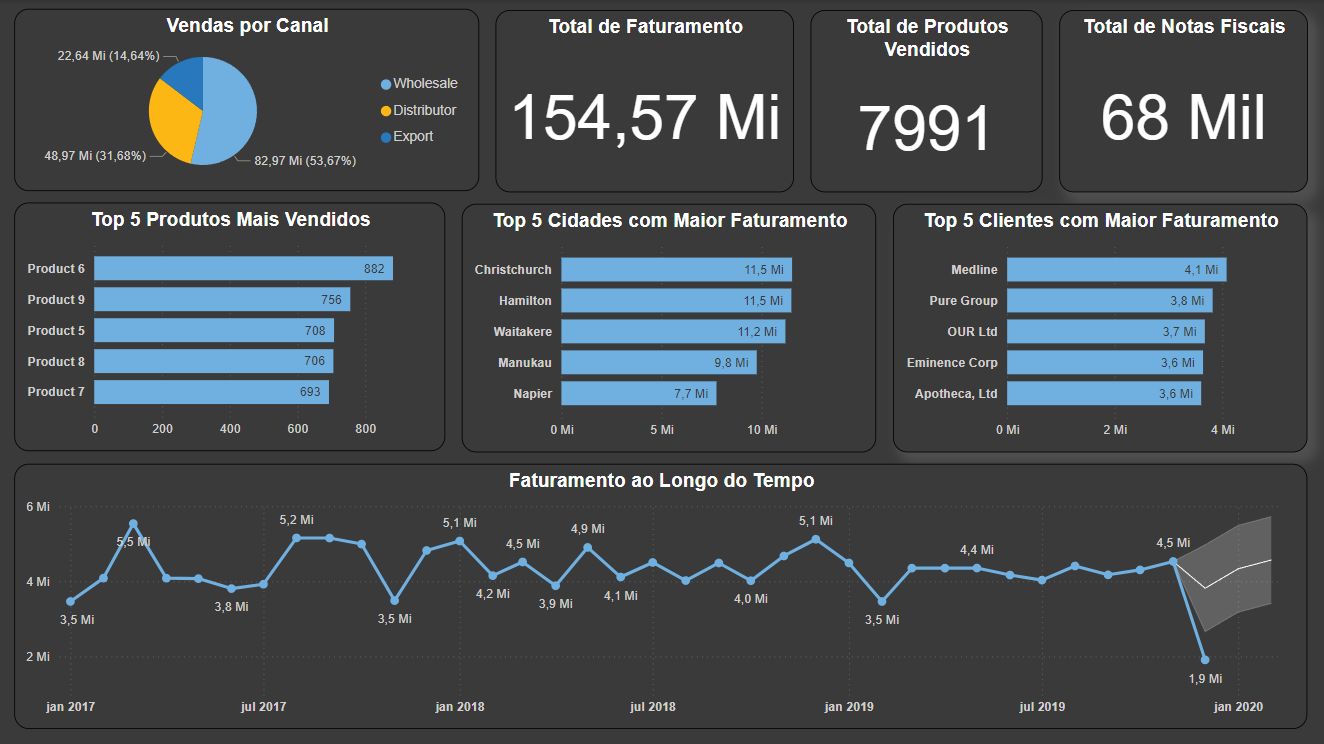

Layout of this report page (visuals, bound fields, positions):
{"tool":"powerbi","page":{"name":"Página 1","canvas":[1280,720],"ordinal":0},"visuals":[{"type":"card","title":"Total de Faturamento","fields":{"Values":["Sum(Sales Orders.Total Revenue)"]},"box":[480,0,288,176],"z":0},{"type":"pieChart","title":"Vendas por Canal","fields":{"Y":["Sum(Sales Orders.Total Revenue)"],"Category":["Sales Orders.Channel"]},"box":[16,0,448,176],"z":1},{"type":"card","title":"Total de Produtos Vendidos","fields":{"Values":["CountNonNull(Sales Orders.OrderNumber)"]},"box":[784,0,224,176],"z":2},{"type":"card","title":"Total de Notas Fiscais","fields":{"Values":["Sum(Sales Orders.Order Quantity)"]},"box":[1024,0,240,176],"z":3},{"type":"clusteredBarChart","title":"Top 5 Produtos Mais Vendidos","fields":{"Category":["Products.Product Name"],"Y":["Sum(Sales Orders.Order Quantity)"]},"box":[16,192,416,240],"z":4},{"type":"clusteredBarChart","title":"Top 5 Cidades com Maior Faturamento","fields":{"Category":["Regions.City"],"Y":["Sum(Sales Orders.Total Revenue)"]},"box":[448,192,400,240],"z":5},{"type":"clusteredBarChart","title":"Top 5 Clientes com Maior Faturamento","fields":{"Category":["Customers.Customer Names"],"Y":["Sum(Sales Orders.Total Revenue)"]},"box":[864,192,400,240],"z":6},{"type":"lineChart","title":"Faturamento ao Longo do Tempo","fields":{"Y":["Sum(Sales Orders.Total Revenue)"],"Category":["Sales Orders.OrderDate.Variation.Hierarquia de datas.Ano","Sales Orders.OrderDate.Variation.Hierarquia de datas.Trimestre","Sales Orders.OrderDate.Variation.Hierarquia de datas.Mês","Sales Orders.OrderDate.Variation.Hierarquia de datas.Dia"]},"box":[16,448,1248,256],"z":7}]}

Visuals, with their boxes in screenshot pixels (x1, y1, x2, y2), scaled from the page's 1280x720 canvas onto the 1324x744 screenshot:
"Total de Faturamento" card: region(496, 0, 794, 182)
"Vendas por Canal" pieChart: region(17, 0, 480, 182)
"Total de Produtos Vendidos" card: region(811, 0, 1043, 182)
"Total de Notas Fiscais" card: region(1059, 0, 1307, 182)
"Top 5 Produtos Mais Vendidos" clusteredBarChart: region(17, 198, 447, 446)
"Top 5 Cidades com Maior Faturamento" clusteredBarChart: region(463, 198, 877, 446)
"Top 5 Clientes com Maior Faturamento" clusteredBarChart: region(894, 198, 1307, 446)
"Faturamento ao Longo do Tempo" lineChart: region(17, 463, 1307, 727)
